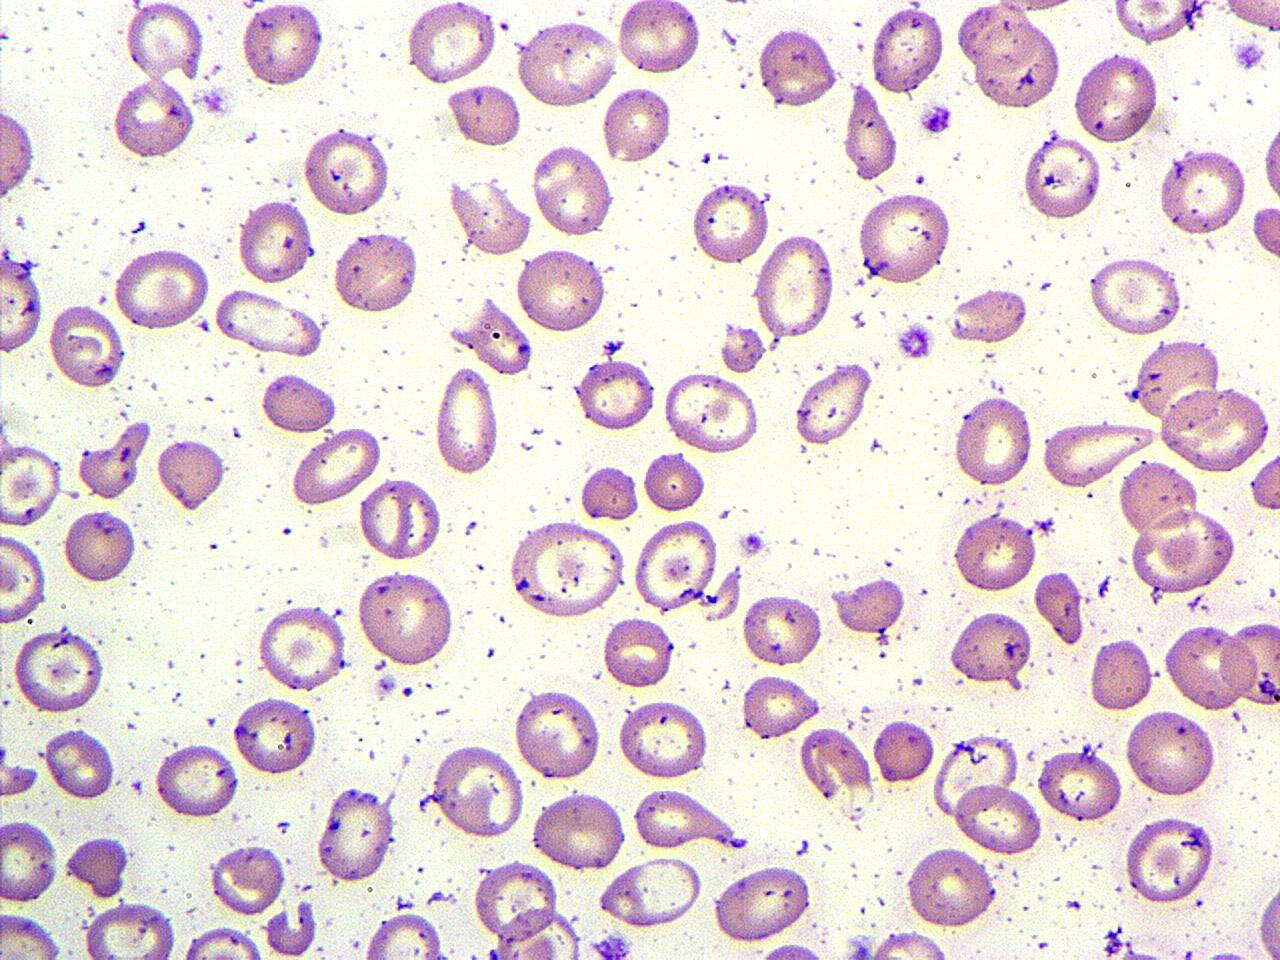Platelets: (585, 928, 634, 959), (896, 321, 934, 360), (917, 99, 954, 136), (193, 86, 230, 115), (1233, 40, 1267, 72), (841, 931, 875, 959), (738, 528, 768, 556), (418, 790, 438, 815), (600, 339, 626, 358), (1030, 514, 1054, 532), (392, 894, 417, 912), (1097, 575, 1113, 598), (1106, 924, 1124, 944), (195, 315, 213, 334), (850, 309, 866, 326), (12, 212, 27, 230), (798, 838, 813, 854), (130, 220, 147, 234), (484, 946, 498, 960), (130, 778, 143, 794), (700, 150, 714, 163), (400, 684, 414, 696), (914, 172, 926, 185)
RBC: (506, 516, 626, 622), (1157, 382, 1275, 476), (354, 567, 458, 667), (513, 18, 620, 111), (854, 189, 954, 286), (432, 741, 527, 841), (1128, 508, 1238, 594), (1122, 706, 1218, 802), (752, 231, 836, 339), (1122, 812, 1215, 907), (1156, 146, 1250, 240), (632, 515, 720, 615), (10, 627, 107, 717), (512, 686, 602, 783), (661, 370, 762, 456), (972, 17, 1062, 112), (1071, 50, 1161, 146), (113, 245, 212, 332), (513, 245, 608, 334), (710, 864, 814, 944), (255, 602, 348, 692), (315, 783, 396, 885), (1087, 253, 1185, 338), (1162, 622, 1256, 710), (288, 424, 383, 510), (616, 696, 712, 782), (1040, 418, 1156, 489), (529, 790, 628, 872), (302, 127, 392, 218), (904, 842, 996, 930), (598, 854, 703, 930), (953, 392, 1035, 490), (472, 856, 560, 946), (331, 230, 422, 316), (212, 289, 324, 359), (403, 1, 498, 83), (1021, 130, 1103, 224), (432, 364, 500, 476), (869, 2, 946, 99), (932, 733, 1022, 817), (1133, 338, 1223, 422), (111, 75, 197, 161), (240, 3, 326, 89), (356, 477, 442, 562), (231, 696, 319, 778), (628, 786, 740, 851), (756, 23, 840, 110), (792, 360, 875, 448), (688, 179, 770, 268), (952, 511, 1038, 595), (47, 301, 127, 390), (1035, 744, 1125, 824), (952, 778, 1043, 857), (237, 195, 314, 286), (447, 174, 532, 258), (534, 152, 614, 239), (152, 741, 240, 820), (616, 0, 702, 78), (1117, 456, 1199, 536), (741, 590, 825, 668), (948, 607, 1034, 684), (125, 0, 204, 82), (575, 356, 657, 433), (953, 0, 1037, 75), (63, 504, 138, 586), (208, 840, 286, 917), (797, 724, 873, 804), (81, 898, 178, 960), (600, 83, 672, 165), (1, 437, 65, 529), (740, 671, 822, 740), (601, 614, 676, 689), (446, 78, 524, 150), (155, 435, 226, 514), (844, 83, 900, 181), (0, 816, 61, 906), (42, 727, 115, 801), (468, 296, 534, 376), (1224, 618, 1280, 710), (489, 908, 591, 958), (258, 370, 337, 435), (948, 286, 1030, 347), (0, 528, 50, 626), (1089, 636, 1153, 712), (870, 715, 936, 787), (0, 257, 46, 356), (833, 574, 908, 634), (641, 448, 708, 516), (1111, 0, 1203, 46), (65, 835, 131, 899), (364, 909, 444, 960), (1034, 568, 1086, 646), (78, 439, 140, 501), (578, 462, 640, 522), (0, 99, 36, 203), (0, 908, 65, 959), (264, 898, 318, 959), (178, 924, 268, 960), (862, 928, 955, 960), (701, 560, 744, 629), (720, 319, 768, 374), (1254, 862, 1280, 960), (1248, 446, 1280, 516), (1260, 108, 1280, 218), (1222, 0, 1280, 33), (1250, 200, 1280, 262)
WBC: (969, 19, 1065, 113), (112, 75, 197, 162)
